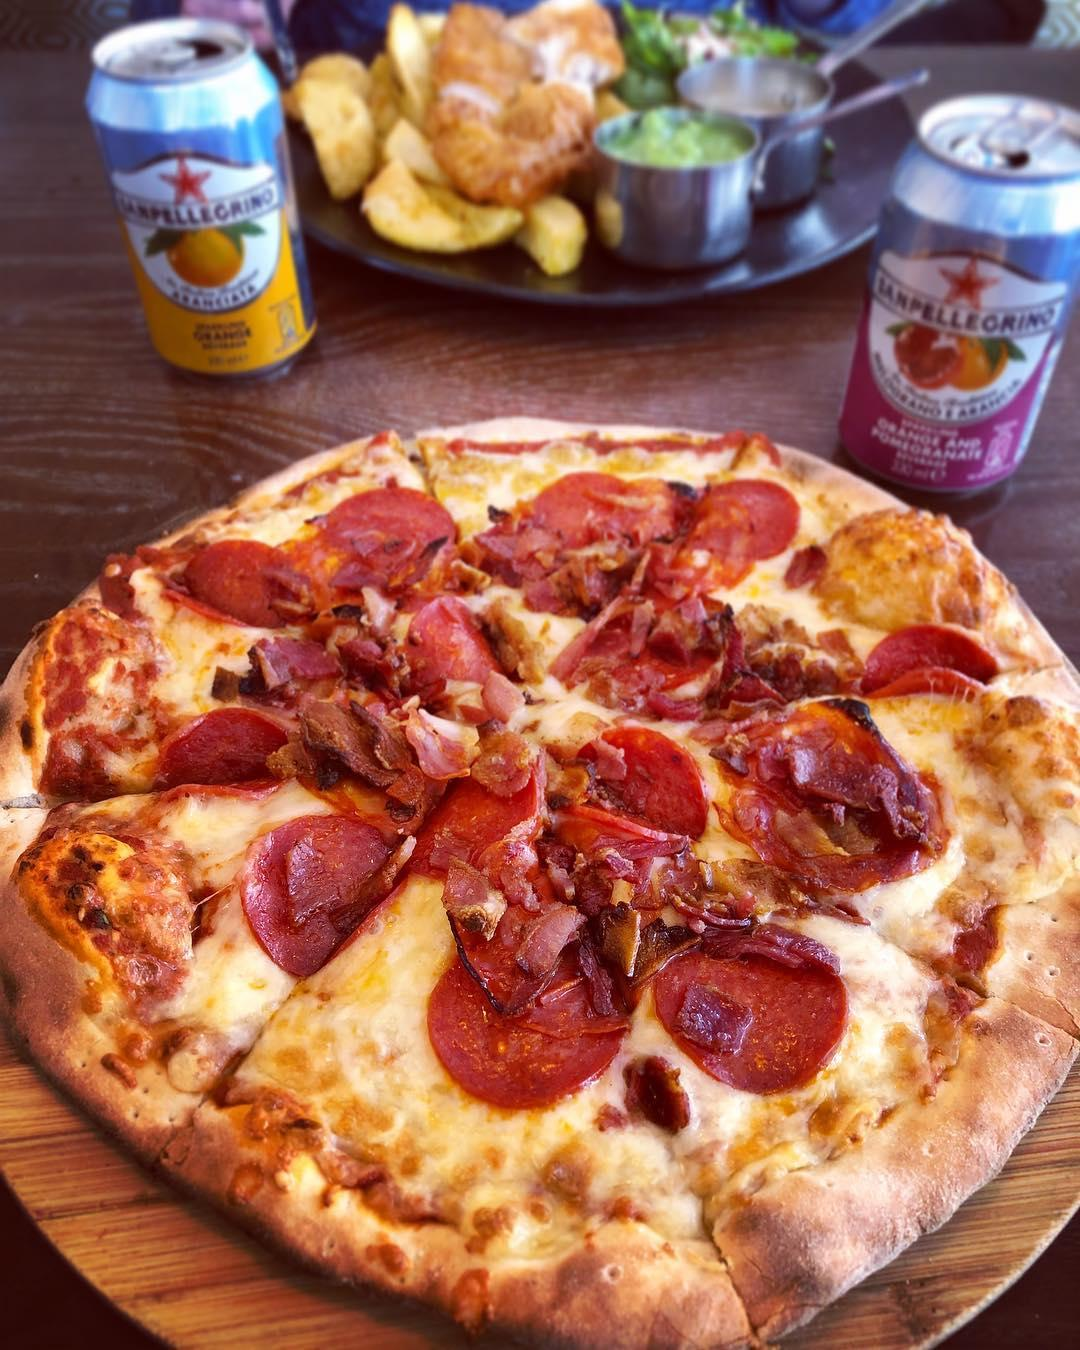Pepperoni: (445, 792, 688, 1032), (719, 696, 955, 898), (421, 927, 630, 1111), (647, 924, 857, 1100), (234, 813, 410, 984), (568, 576, 737, 699), (509, 461, 659, 595), (303, 478, 469, 598), (401, 742, 547, 878), (378, 588, 525, 720), (573, 720, 716, 845), (153, 533, 320, 638), (652, 473, 812, 569), (150, 704, 301, 803), (849, 620, 1006, 715), (235, 628, 356, 690)
Pizza: (0, 404, 1080, 1350)
